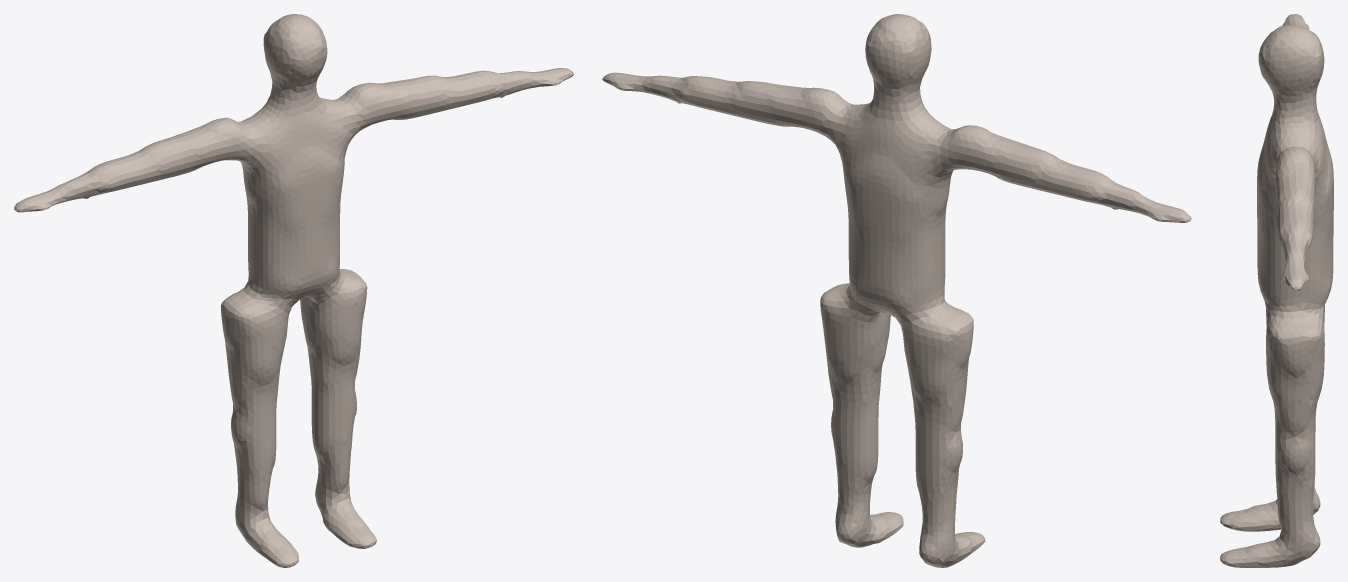
3 views of the same model, side by side, from view 1: azimuth 30°, elevation 25°; view 2: azimuth 150°, elevation 25°; view 3: azimuth 270°, elevation 25° (orthographic). The views are drawn at different scales.
Visible parts, largest first — view 1: world; view 2: world; view 3: world.
Boxes of the visible parts, <box> form: world: <box>14,14,573,567</box>; world: <box>602,14,1191,567</box>; world: <box>1220,14,1333,567</box>.
Size of the model in its own units: 79.97 by 70.78 by 14.08.
